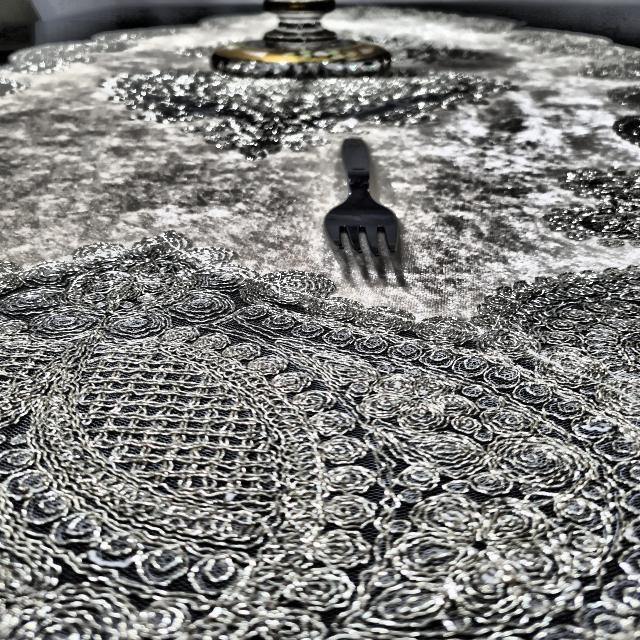plastic utensil: (324, 134, 404, 262)
